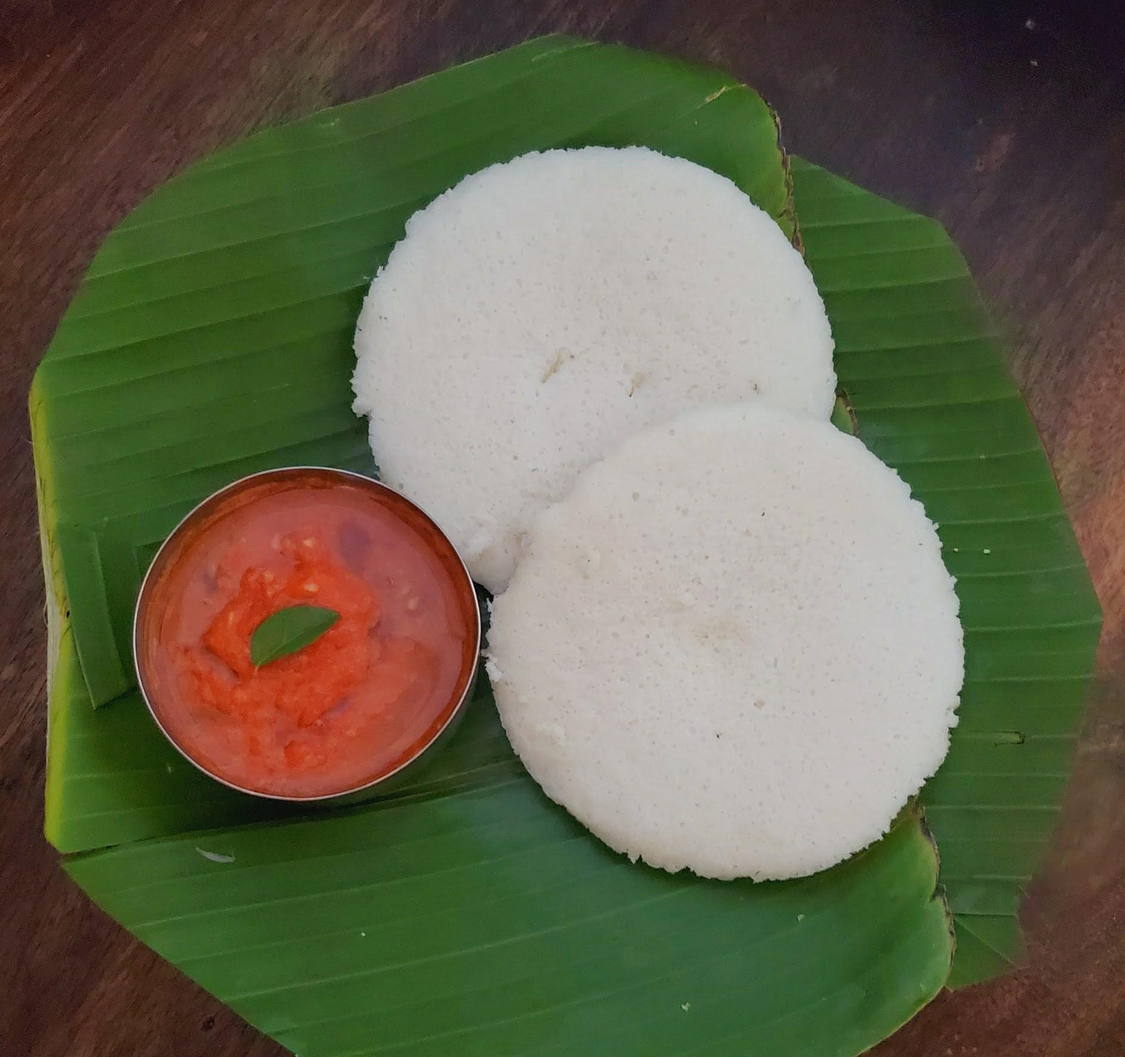Idli: (487, 407, 966, 886), (356, 145, 836, 593)
